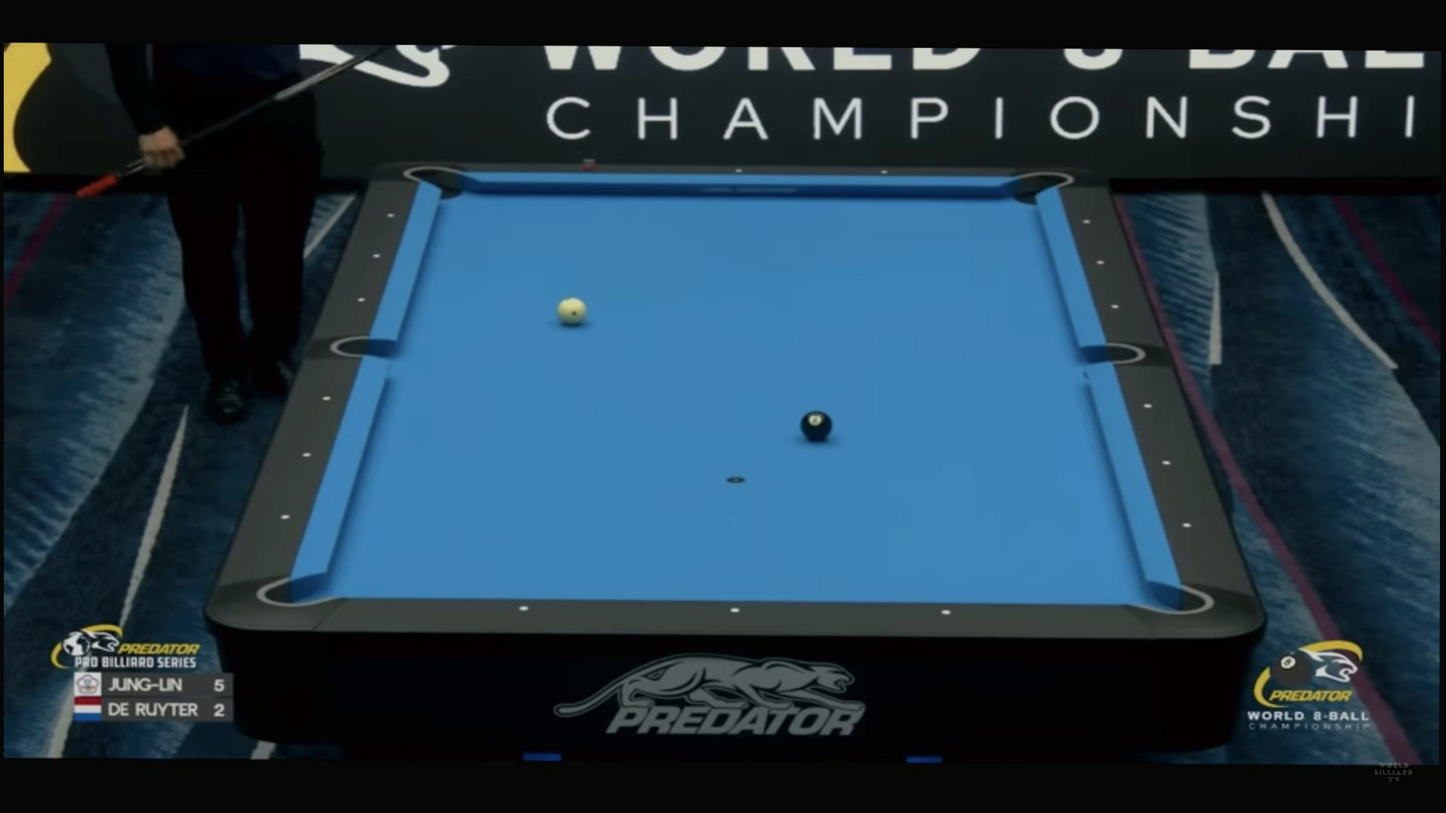Black: (799, 410, 832, 440)
Cue: (557, 297, 587, 325)
Solid: (1160, 456, 1173, 468), (1181, 519, 1193, 531), (1142, 401, 1154, 413), (517, 602, 530, 613), (729, 605, 742, 616), (940, 607, 952, 618), (280, 512, 292, 523), (321, 394, 332, 405), (302, 450, 313, 460), (1110, 302, 1121, 311), (1096, 259, 1107, 268), (1081, 217, 1092, 226), (734, 167, 744, 176), (880, 167, 890, 176), (357, 295, 366, 304), (386, 211, 396, 219), (372, 252, 381, 260)
